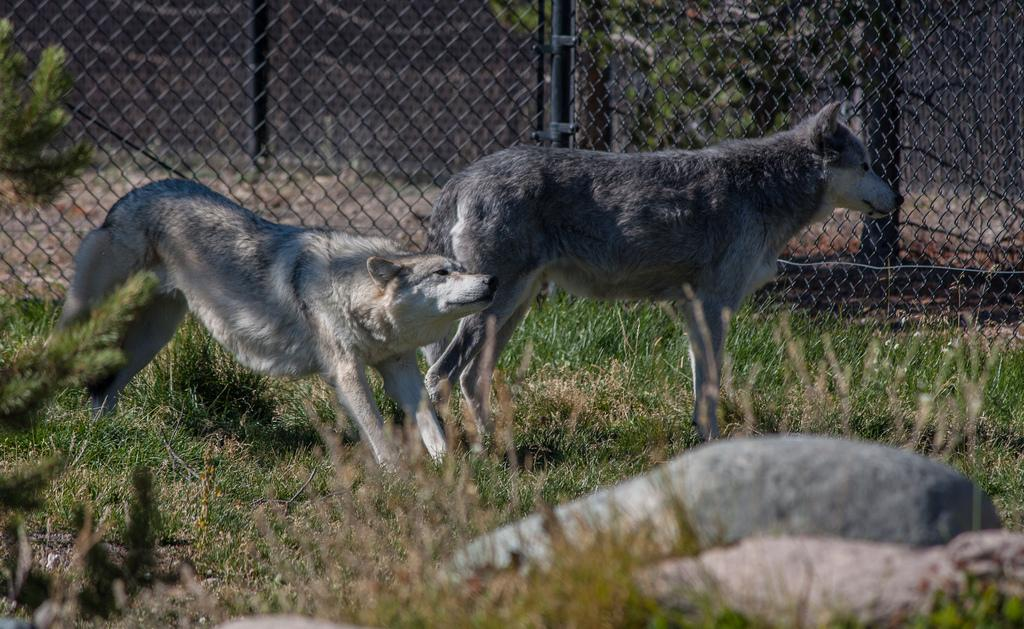Wolf: (423, 99, 902, 480), (41, 177, 496, 479)
